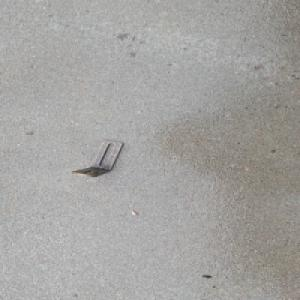MetalPart: (70, 139, 124, 177)
